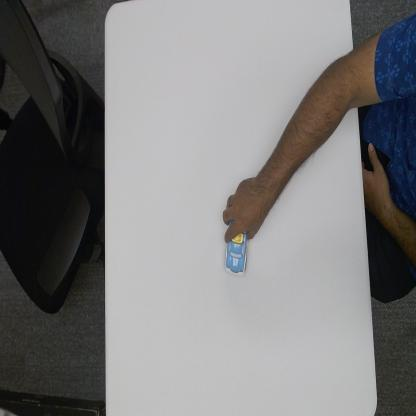Arm: (264, 51, 357, 211)
Car: (225, 222, 249, 275)
Hand: (223, 174, 266, 245)
